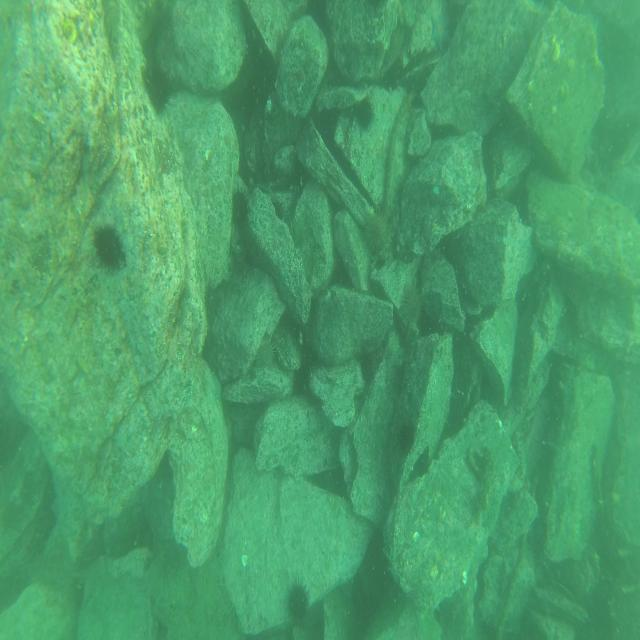echinus: (92, 227, 124, 274), (288, 586, 309, 623), (353, 96, 374, 130)
